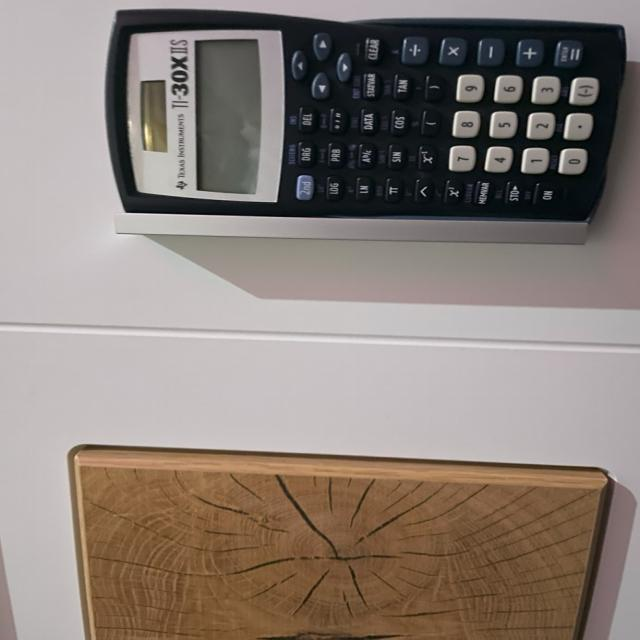Calculator: (103, 10, 627, 222)
